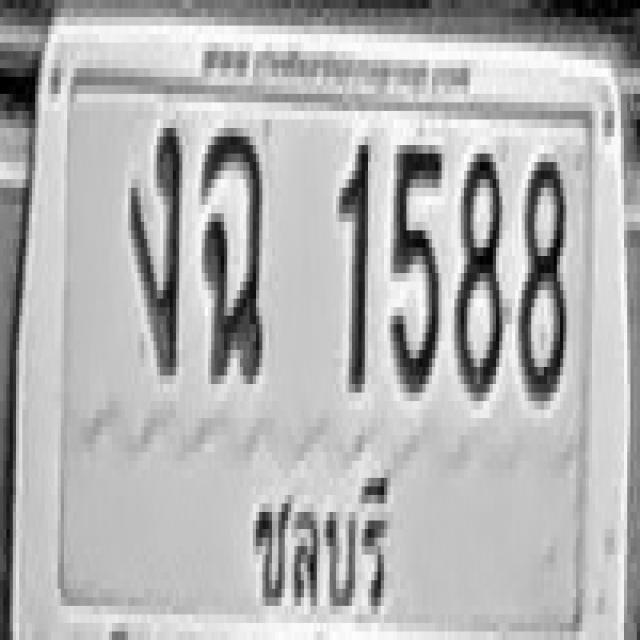1: (338, 141, 370, 388)
16NgorNgu: (128, 120, 182, 376)
18ChorChing: (200, 123, 264, 380)
5: (391, 136, 442, 392)
8: (454, 145, 502, 393), (518, 154, 566, 401)
Chonburi: (242, 453, 395, 617)
